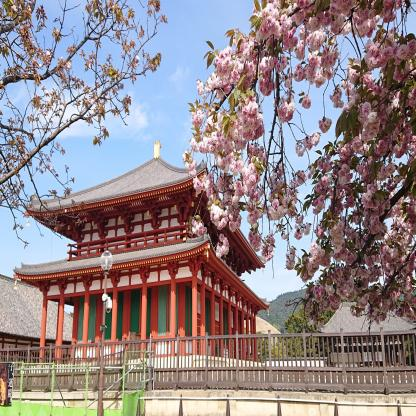YaeSakura: (184, 0, 416, 319), (0, 1, 169, 249)
